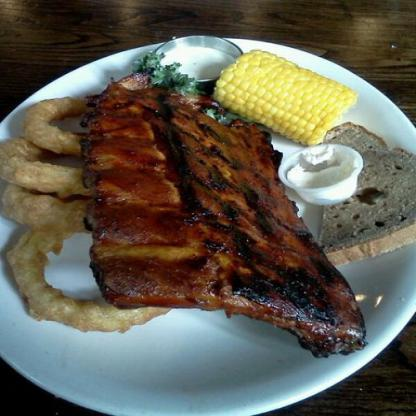corn: (213, 50, 356, 150)
